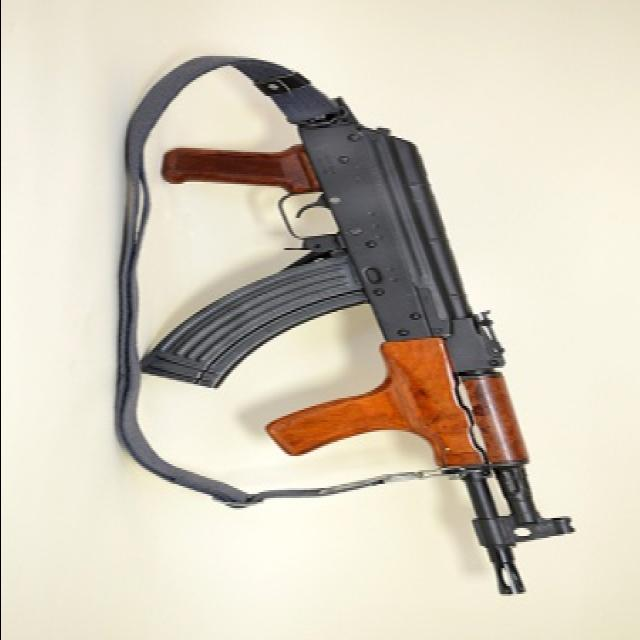rifle: (139, 67, 583, 615)
